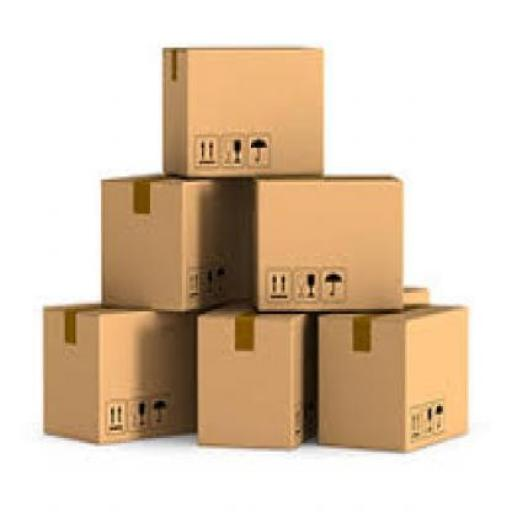cardboard: (98, 168, 254, 314), (39, 301, 196, 444), (247, 172, 402, 314), (314, 304, 466, 448), (160, 48, 322, 176), (195, 296, 315, 446), (401, 284, 427, 309)
